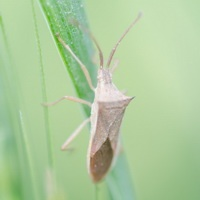insect: (43, 12, 141, 181)
